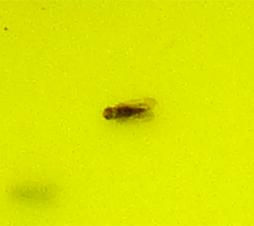Hemiptera: (100, 100, 154, 126)
